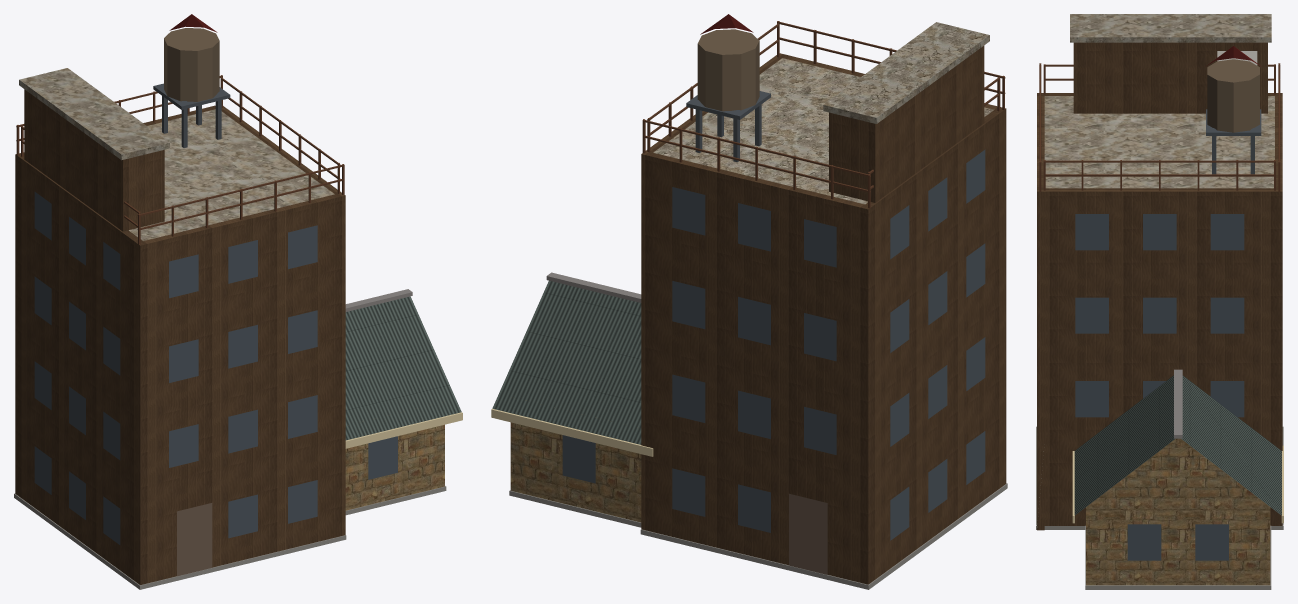
The model's file is rw-lookout-house.zfix-v22.lod1.glb.
3 views of the same model, side by side, from view 1: azimuth 30°, elevation 25°; view 2: azimuth 150°, elevation 25°; view 3: azimuth 270°, elevation 25° (orthographic). The views are drawn at different scales.
Parts seen in each view (by area): view 1: rw-lookout-house; view 2: rw-lookout-house; view 3: rw-lookout-house.
Part boxes in pixels (x1,y1,x2,y2): rw-lookout-house: [14, 14, 462, 589]; rw-lookout-house: [491, 14, 1007, 589]; rw-lookout-house: [1036, 14, 1283, 589].
Size of the model in its own units: 12.72 by 16.45 by 8.07.
Materials: 5 (4 with a texture image).
